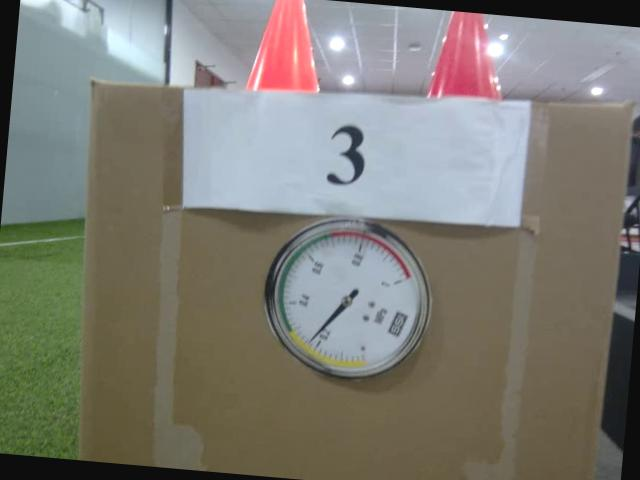3: (326, 123, 368, 187)
Dashboard: (256, 212, 439, 388)
orange_barrel: (239, 0, 327, 94)
red_barrel: (423, 10, 510, 101)
ssi: (386, 310, 410, 339)
